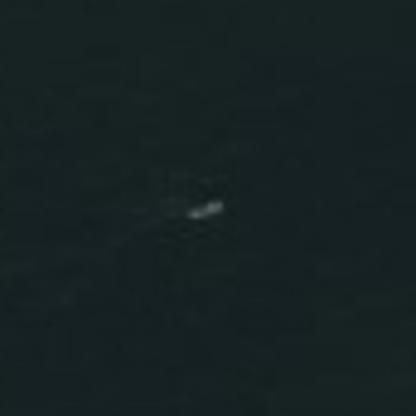ship: (180, 192, 228, 226)
